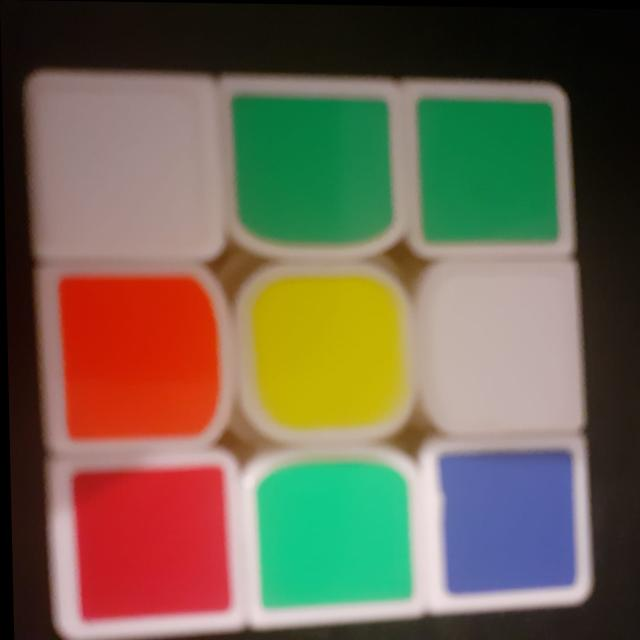Blue: (430, 443, 582, 609)
Green: (223, 79, 399, 248), (247, 457, 415, 628), (409, 85, 566, 254)
Orange: (45, 272, 225, 441)
Red: (53, 451, 230, 636)
White: (32, 76, 214, 254), (425, 267, 579, 426)
Yellow: (236, 269, 410, 438)
